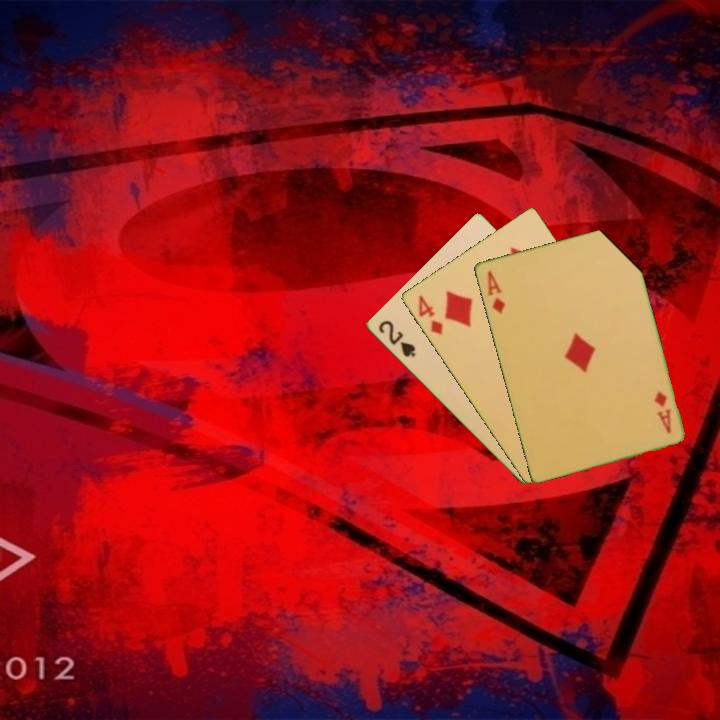2s: (374, 317, 418, 360)
4d: (414, 291, 446, 338)
Ad: (483, 267, 508, 317), (650, 387, 674, 436)
